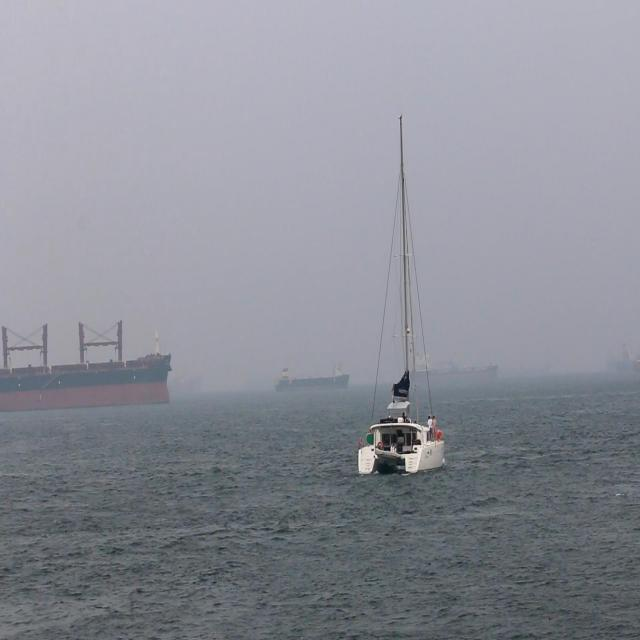CIV_Ship: (356, 112, 444, 476)
